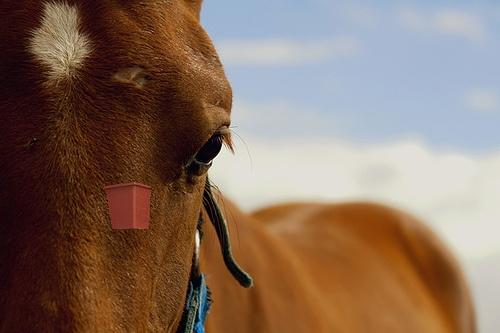tampered: (105, 169, 151, 229)
